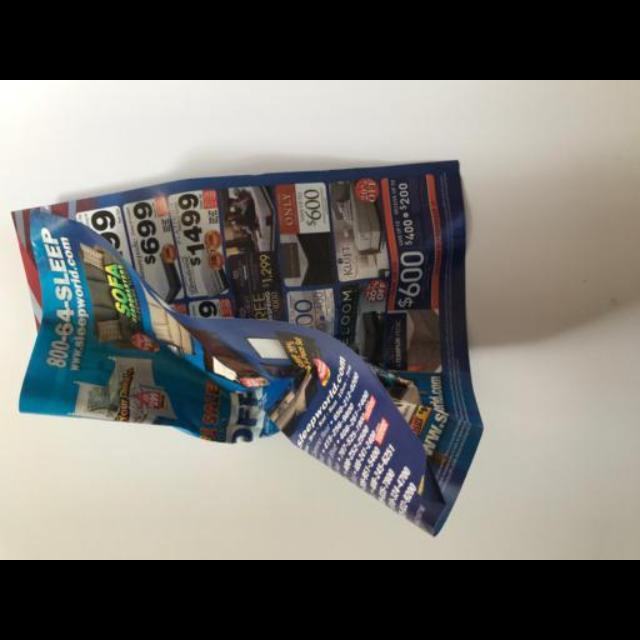papel: (11, 159, 482, 536)
